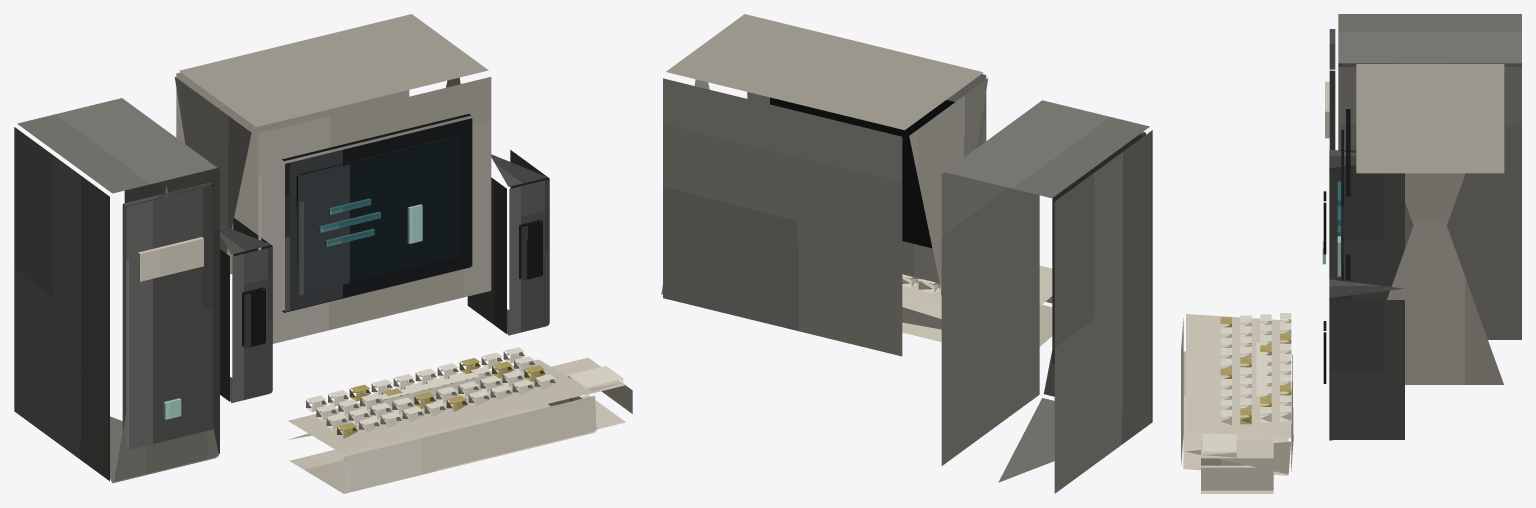
The model's file is retro_computer_tower_ivory.glb.
The picture shows the model from 3 angles, left to right: view 1: azimuth 30°, elevation 25°; view 2: azimuth 150°, elevation 25°; view 3: azimuth 270°, elevation 25°; orthographic projection. The views are drawn at different scales.
Parts seen in each view (by area): view 1: MonitorShell, Tower, TowerFace, MonitorGlow, KeyboardBody, MonitorFace, Speaker_R, Speaker_L, DriveBay, Mouse, SpeakerCone_L, SpeakerCone_R (+2 smaller); view 2: MonitorShell, Tower, MonitorFace, KeyboardBody, TowerFace; view 3: MonitorShell, Tower, Speaker_R, KeyboardBody, Speaker_L, Mouse, TowerFace, MouseButton, MonitorFace, SpaceBar.
Boxes of the visible parts, x1,y1,x2,y2 form: MonitorShell: (174, 14, 491, 343); Tower: (14, 98, 219, 483); TowerFace: (122, 182, 213, 450); MonitorGlow: (296, 135, 462, 295); KeyboardBody: (288, 359, 596, 493); MonitorFace: (282, 114, 472, 312); Speaker_R: (467, 150, 549, 335); Speaker_L: (220, 218, 272, 403); DriveBay: (138, 237, 203, 281); Mouse: (548, 357, 632, 429); SpeakerCone_L: (242, 287, 265, 348); SpeakerCone_R: (519, 220, 542, 280); MonitorShell: (661, 14, 988, 356); Tower: (941, 100, 1152, 493); MonitorFace: (770, 97, 954, 248); KeyboardBody: (902, 265, 1052, 346); TowerFace: (1052, 132, 1145, 364); MonitorShell: (1356, 64, 1504, 384); Tower: (1338, 14, 1521, 339); Speaker_R: (1329, 279, 1404, 440); KeyboardBody: (1181, 314, 1293, 475); Speaker_L: (1329, 149, 1404, 279); Mouse: (1201, 439, 1273, 493); TowerFace: (1329, 29, 1335, 150); MouseButton: (1202, 434, 1236, 457); MonitorFace: (1346, 109, 1350, 279); SpaceBar: (1256, 342, 1266, 396).
Bounding box in the file's own units: 1.27 × 0.84 × 0.8659.
Materials: 1 (1 with a texture image).
